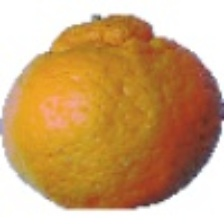tangerine: (22, 41, 178, 221)
